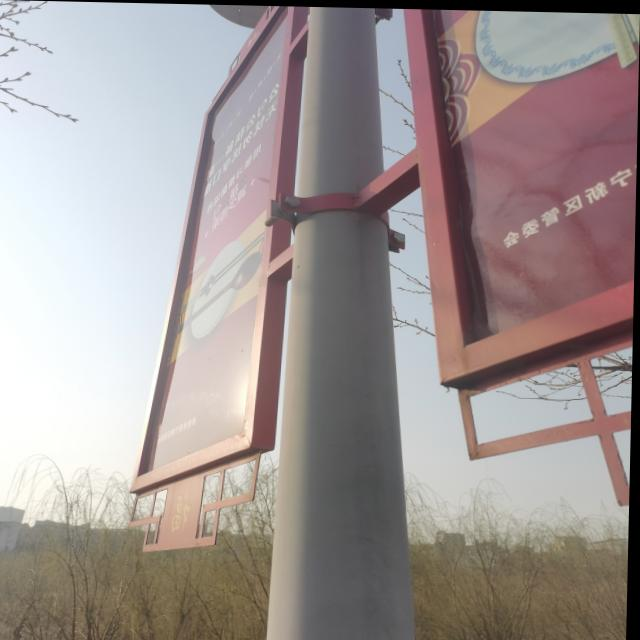Regular bolt: (287, 195, 303, 207), (393, 231, 407, 243)
